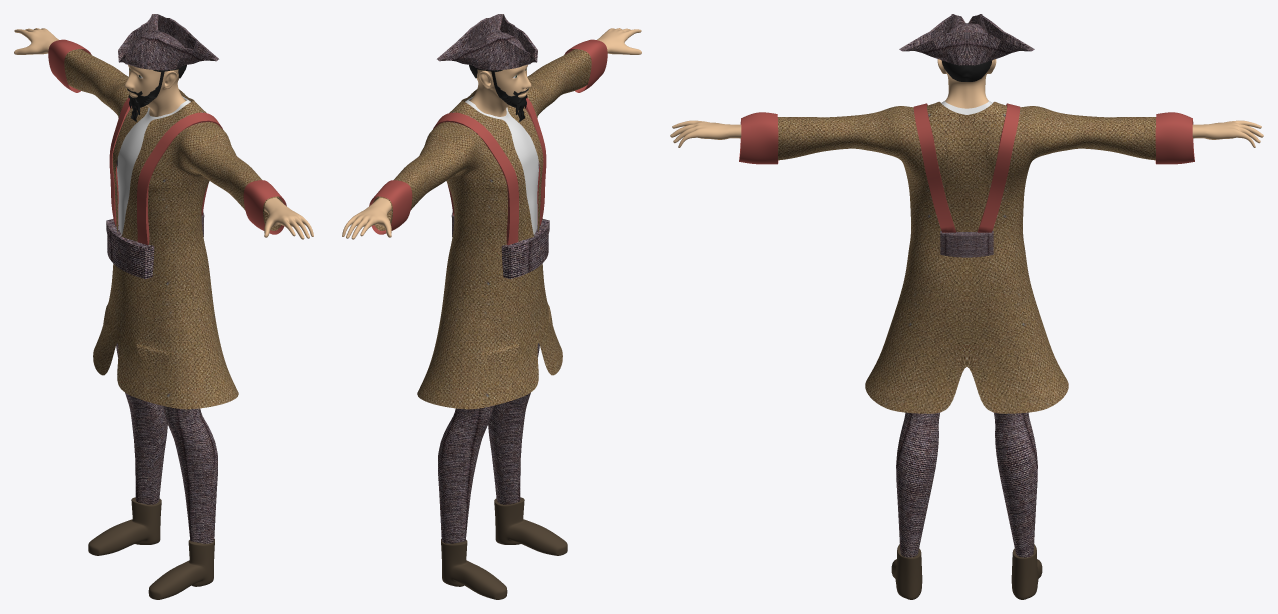
The model's file is Character.Pirate.01.fbx.
3 views of the same model, side by side, from view 1: azimuth 30°, elevation 25°; view 2: azimuth 150°, elevation 25°; view 3: azimuth 270°, elevation 25° (orthographic). The views are drawn at different scales.
Visible parts, largest first — view 1: Body_low_body_low.004, Body_low_body_low, Body_low_body_low.007, Body_low_body_low.001, Circle, Body_low_body_low.002, Body_low_body_low.003, Body_low_body_low.005; view 2: Body_low_body_low.004, Body_low_body_low, Body_low_body_low.007, Body_low_body_low.001, Circle, Body_low_body_low.002, Body_low_body_low.003, Body_low_body_low.005; view 3: Body_low_body_low.004, Body_low_body_low, Body_low_body_low.001, Circle, Body_low_body_low.002, Body_low_body_low.007, Body_low_body_low.006.
Boxes of the visible parts, x1,y1,x2,y2 form: Body_low_body_low.004: [64, 49, 282, 409]; Body_low_body_low: [14, 28, 313, 543]; Body_low_body_low.007: [88, 497, 214, 599]; Body_low_body_low.001: [48, 39, 286, 234]; Circle: [118, 14, 218, 70]; Body_low_body_low.002: [109, 97, 222, 245]; Body_low_body_low.003: [106, 218, 154, 278]; Body_low_body_low.005: [127, 65, 186, 121]; Body_low_body_low.004: [373, 49, 591, 409]; Body_low_body_low: [342, 28, 641, 543]; Body_low_body_low.007: [441, 497, 567, 599]; Body_low_body_low.001: [369, 39, 607, 234]; Circle: [437, 14, 537, 70]; Body_low_body_low.002: [433, 97, 546, 245]; Body_low_body_low.003: [501, 218, 549, 278]; Body_low_body_low.005: [469, 65, 528, 121]; Body_low_body_low.004: [778, 101, 1155, 413]; Body_low_body_low: [670, 59, 1263, 557]; Body_low_body_low.001: [739, 101, 1194, 164]; Circle: [899, 14, 1034, 65]; Body_low_body_low.002: [913, 103, 1020, 232]; Body_low_body_low.007: [891, 544, 1042, 599]; Body_low_body_low.006: [940, 231, 993, 257].
Size of the model in its own units: 33.94 by 181 by 172.
